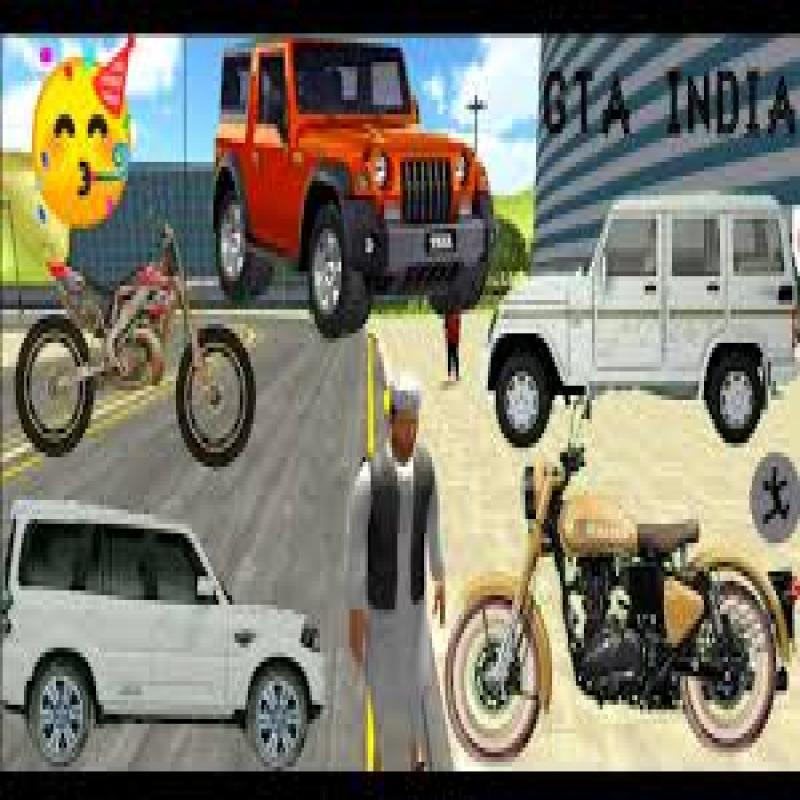car: (193, 46, 522, 296)
